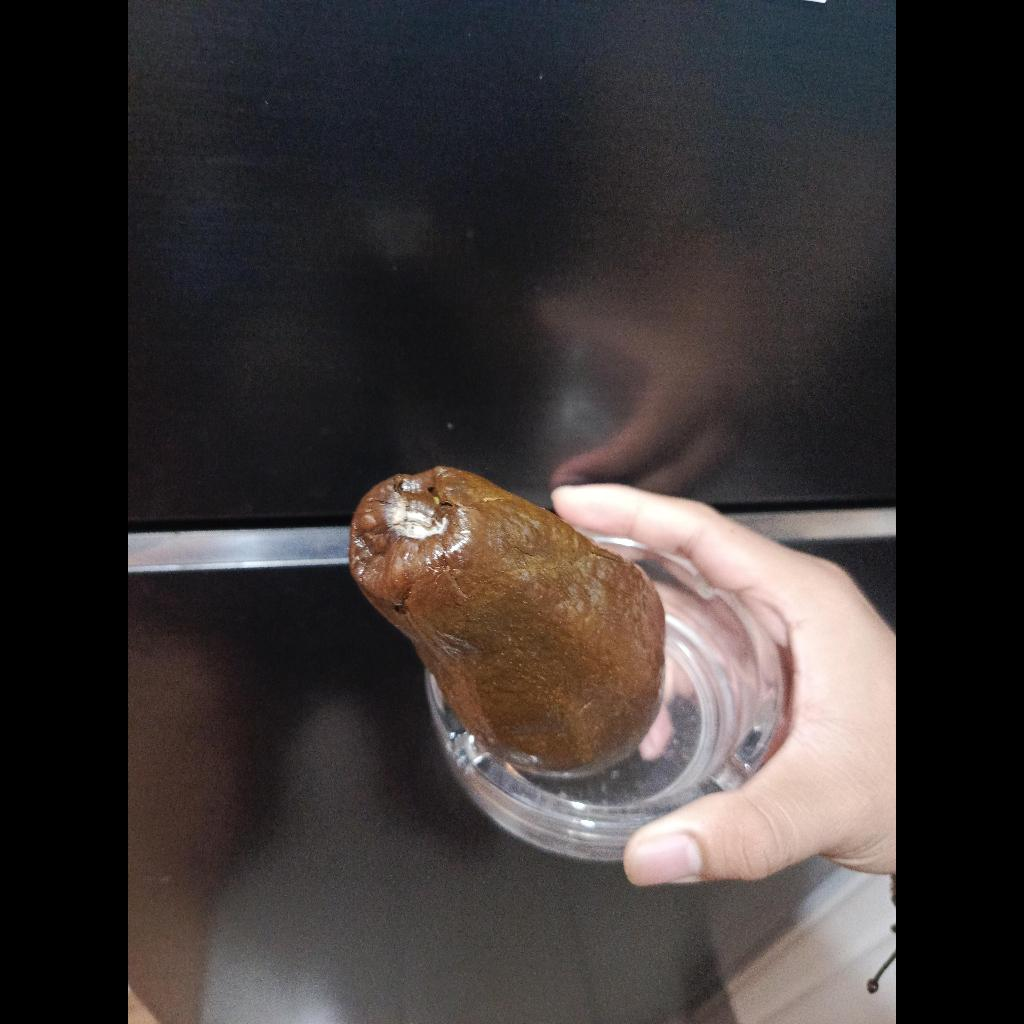pudricion_peduncular: (350, 467, 665, 771)
